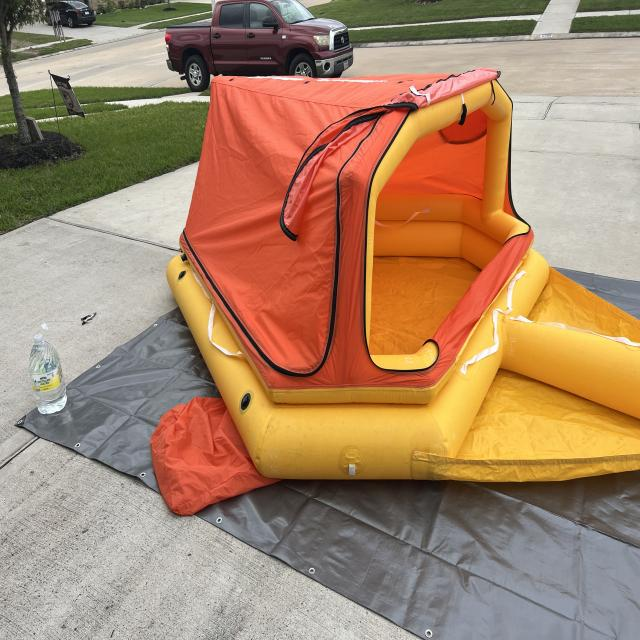Multi-person_life_raft: (150, 67, 640, 516)
